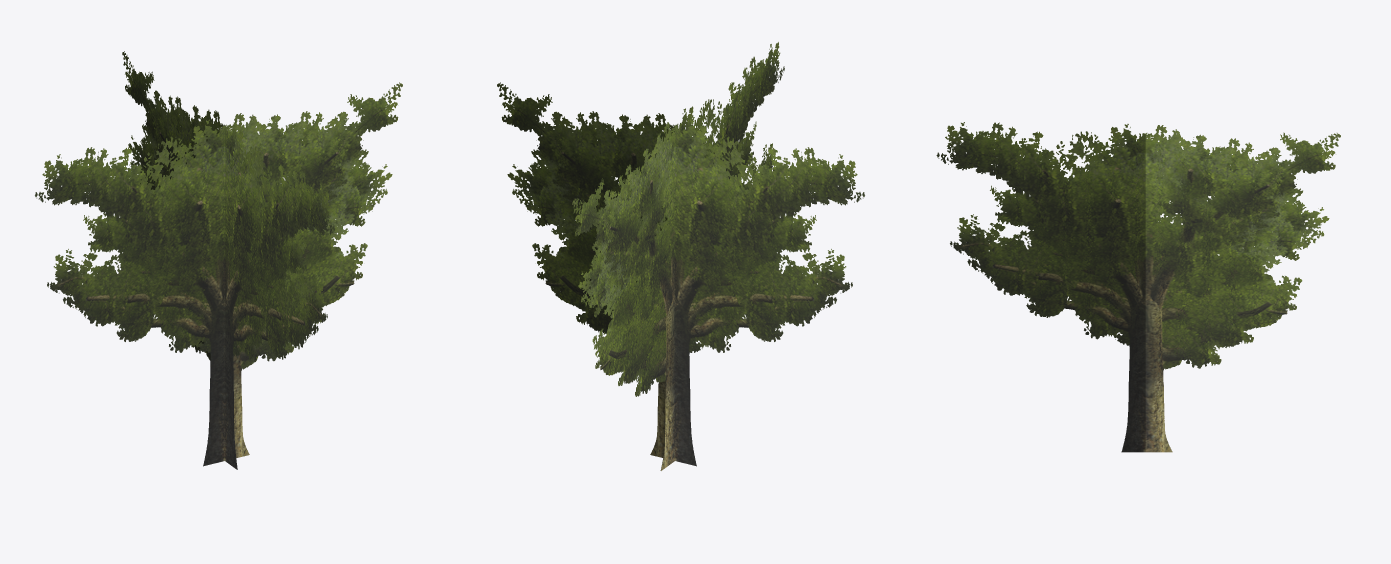
Rendered from Western_Juniper_Fan_0.obj.
3 views of the same model, side by side, from view 1: azimuth 30°, elevation 25°; view 2: azimuth 150°, elevation 25°; view 3: azimuth 270°, elevation 25° (orthographic). The views are drawn at different scales.
Parts seen in each view (by area): view 1: CreateFan; view 2: CreateFan; view 3: CreateFan.
Part boxes in pixels (x1,y1,x2,y2): CreateFan: [35, 51, 402, 469]; CreateFan: [497, 42, 864, 470]; CreateFan: [936, 122, 1340, 452].
Size of the model in its own units: 27.74 by 22.5 by 27.74.
Materials: 1 (1 with a texture image).
